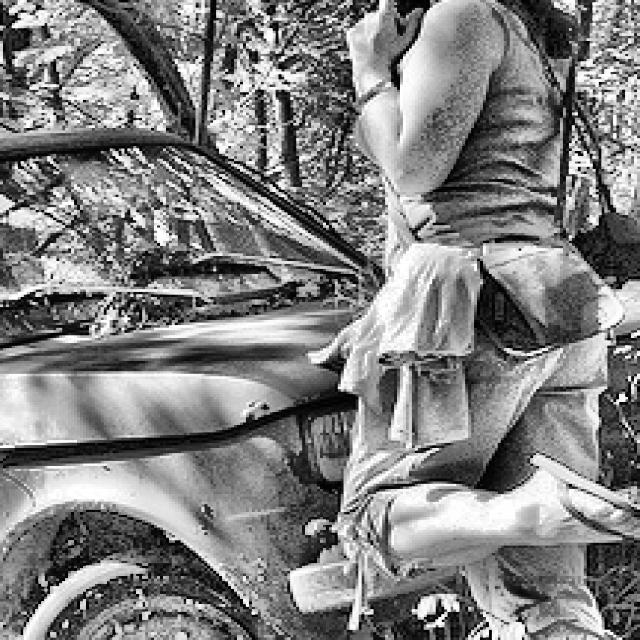light_vehicle: (0, 125, 640, 640)
